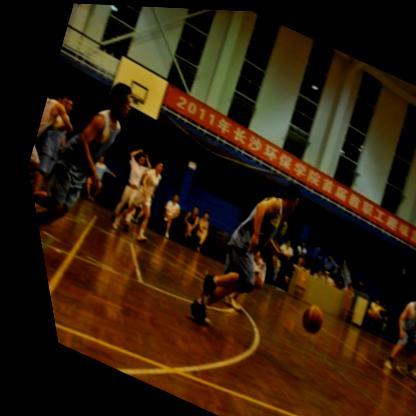basketball: (284, 299, 319, 334)
